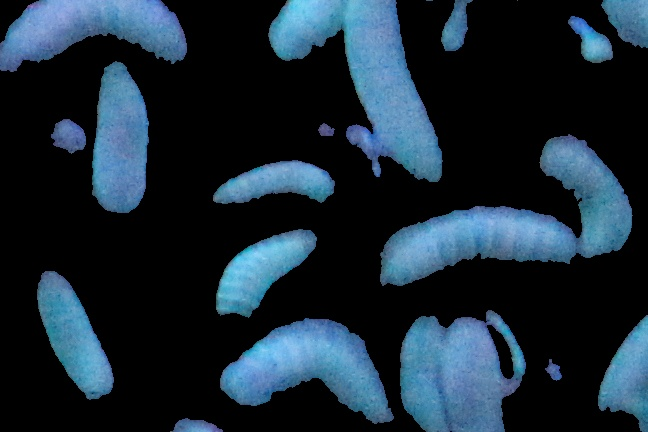larvae: (326, 1, 457, 203), (213, 311, 387, 424), (534, 111, 636, 280), (374, 206, 583, 281), (200, 211, 326, 332), (83, 56, 173, 216), (32, 258, 126, 404), (1, 1, 186, 68), (450, 312, 510, 432), (395, 306, 450, 432), (200, 155, 332, 203)
